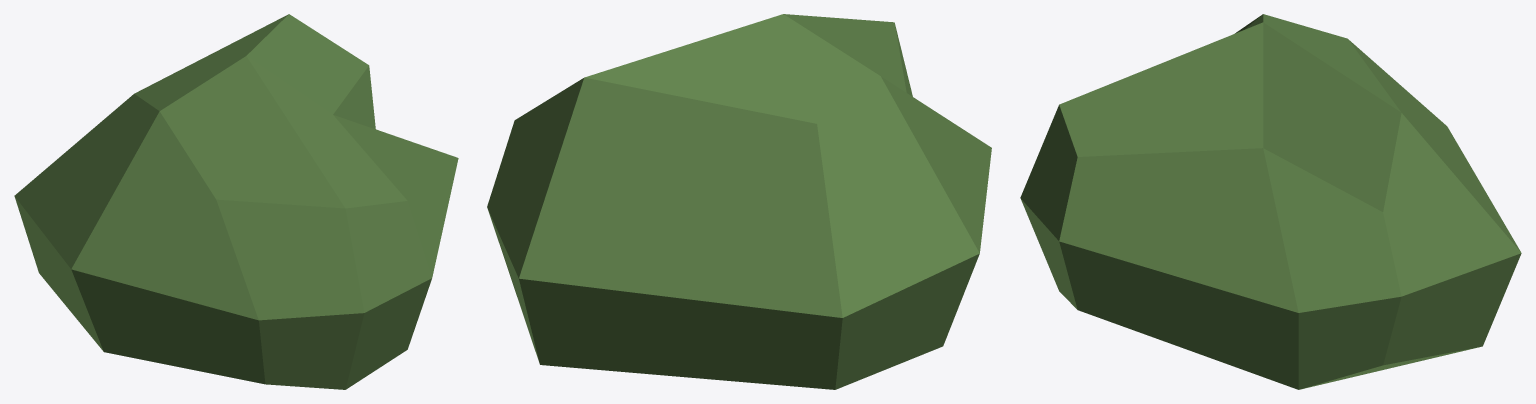
Rendered from Bush.fbx.
The picture shows the model from 3 angles, left to right: view 1: azimuth 30°, elevation 25°; view 2: azimuth 150°, elevation 25°; view 3: azimuth 270°, elevation 25°; orthographic projection. The views are drawn at different scales.
Parts seen in each view (by area): view 1: Mining Village.176; view 2: Mining Village.176; view 3: Mining Village.176.
Part boxes in pixels (x1=…): Mining Village.176: x1=14, y1=14, x2=458, y2=389; Mining Village.176: x1=487, y1=14, x2=991, y2=389; Mining Village.176: x1=1020, y1=14, x2=1521, y2=389.
Size of the model in its own units: 284 by 199 by 297.
